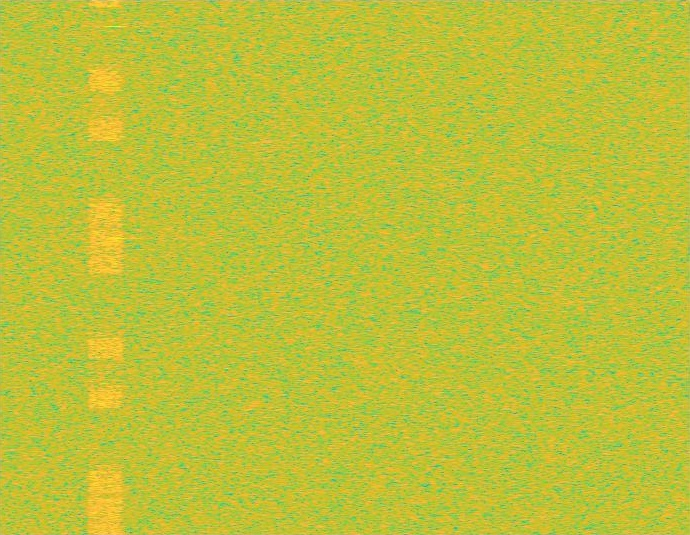LTE: (88, 0, 123, 534)
Radar: (109, 0, 122, 534)
